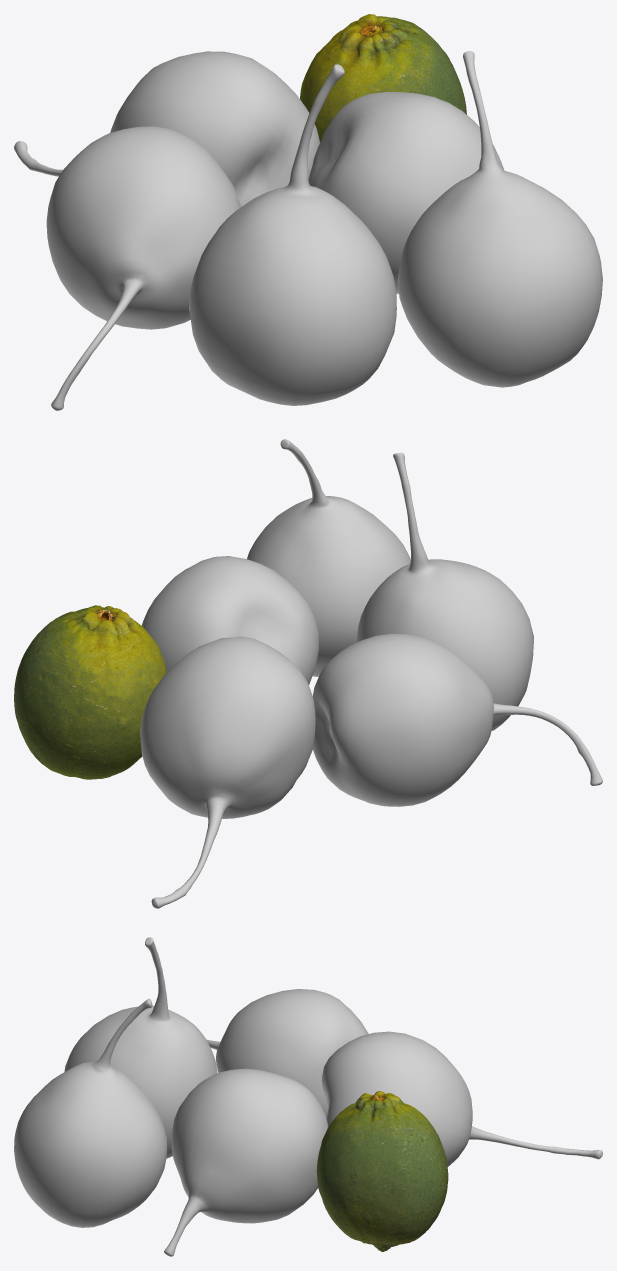
Rendered from Fruits.fbx.
3 renders of one model, top to bottom at view 1: azimuth 30°, elevation 25°; view 2: azimuth 150°, elevation 25°; view 3: azimuth 270°, elevation 25°, orthographic. The views are drawn at different scales.
Visible parts, largest first — view 1: food_pears_asian_01_c, food_pears_asian_01_e, food_pears_asian_01_a, food_pears_asian_01_d, food_pears_asian_01_b, food_lime_01; view 2: food_pears_asian_01_b, food_pears_asian_01_a, food_lime_01, food_pears_asian_01_c, food_pears_asian_01_e, food_pears_asian_01_d; view 3: food_pears_asian_01_d, food_pears_asian_01_e, food_lime_01, food_pears_asian_01_b, food_pears_asian_01_a, food_pears_asian_01_c.
Part boxes in pixels (x1,y1,x2,y2): food_pears_asian_01_c: [189, 64, 396, 405]; food_pears_asian_01_e: [397, 51, 602, 387]; food_pears_asian_01_a: [46, 126, 241, 410]; food_pears_asian_01_d: [308, 92, 504, 293]; food_pears_asian_01_b: [14, 51, 320, 206]; food_lime_01: [300, 14, 466, 142]; food_pears_asian_01_b: [140, 636, 315, 908]; food_pears_asian_01_a: [312, 633, 602, 806]; food_lime_01: [14, 605, 166, 779]; food_pears_asian_01_c: [356, 452, 533, 730]; food_pears_asian_01_e: [247, 439, 410, 676]; food_pears_asian_01_d: [141, 556, 318, 684]; food_pears_asian_01_d: [164, 1068, 328, 1256]; food_pears_asian_01_e: [14, 998, 167, 1227]; food_lime_01: [316, 1091, 448, 1251]; food_pears_asian_01_b: [321, 1031, 602, 1166]; food_pears_asian_01_a: [207, 989, 368, 1117]; food_pears_asian_01_c: [64, 937, 217, 1158].
Size of what is drawn, in the model's own units: 307 by 169 by 390.
